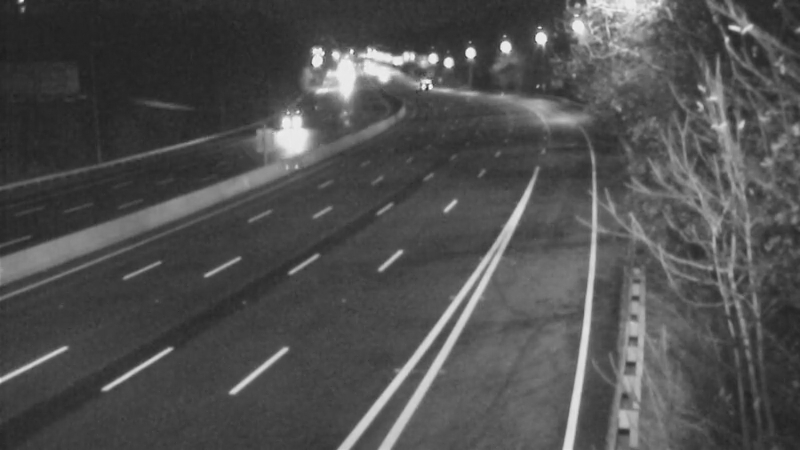vehicle: (398, 56, 448, 106), (356, 52, 406, 102), (274, 94, 324, 144)
